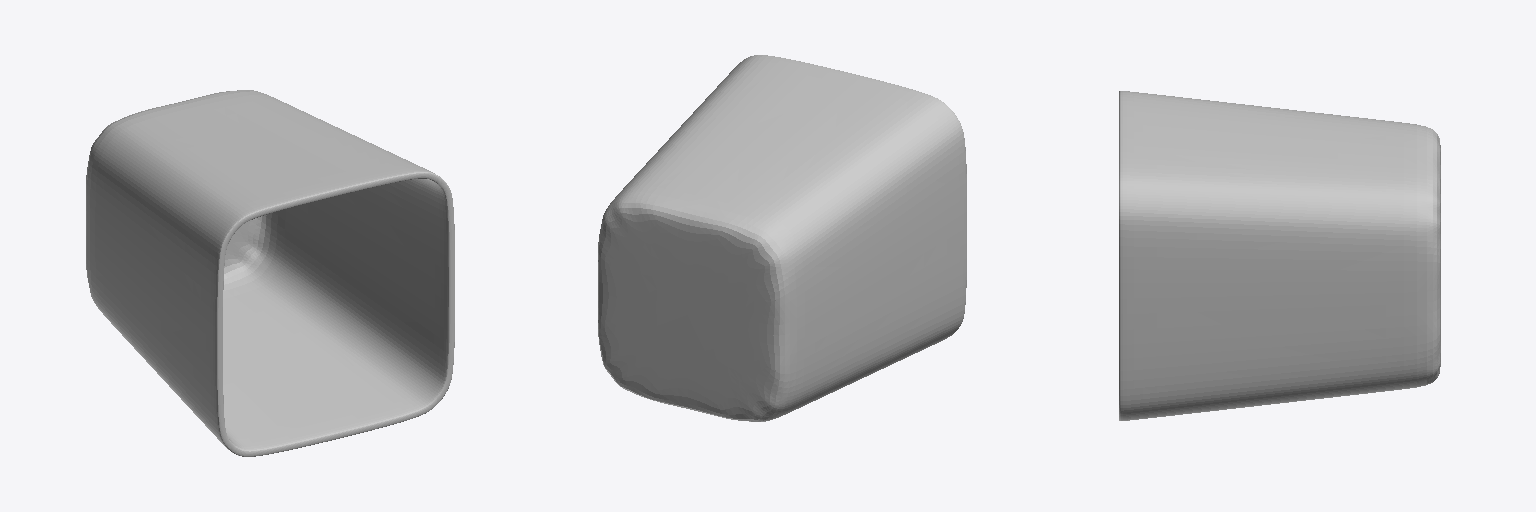
File: blender.obj
3 renders of one model, left to right at view 1: azimuth 30°, elevation 25°; view 2: azimuth 150°, elevation 25°; view 3: azimuth 270°, elevation 25°, orthographic.
Visible parts, largest first — view 1: mesh; view 2: mesh; view 3: mesh.
Boxes of the visible parts, box(x1,y1,x2,y2) form: mesh: box(86, 90, 454, 456); mesh: box(598, 55, 966, 421); mesh: box(1119, 91, 1440, 420).
Bounding box in the file's own units: 1.56 × 1.56 × 1.83.